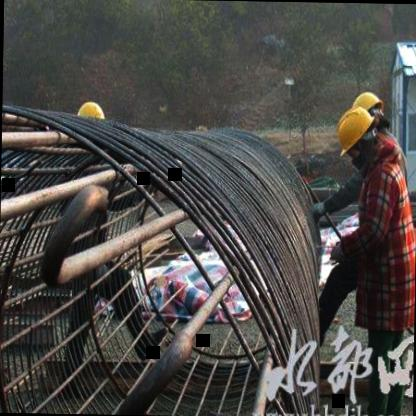helmet: (336, 104, 376, 159), (354, 88, 388, 131)
